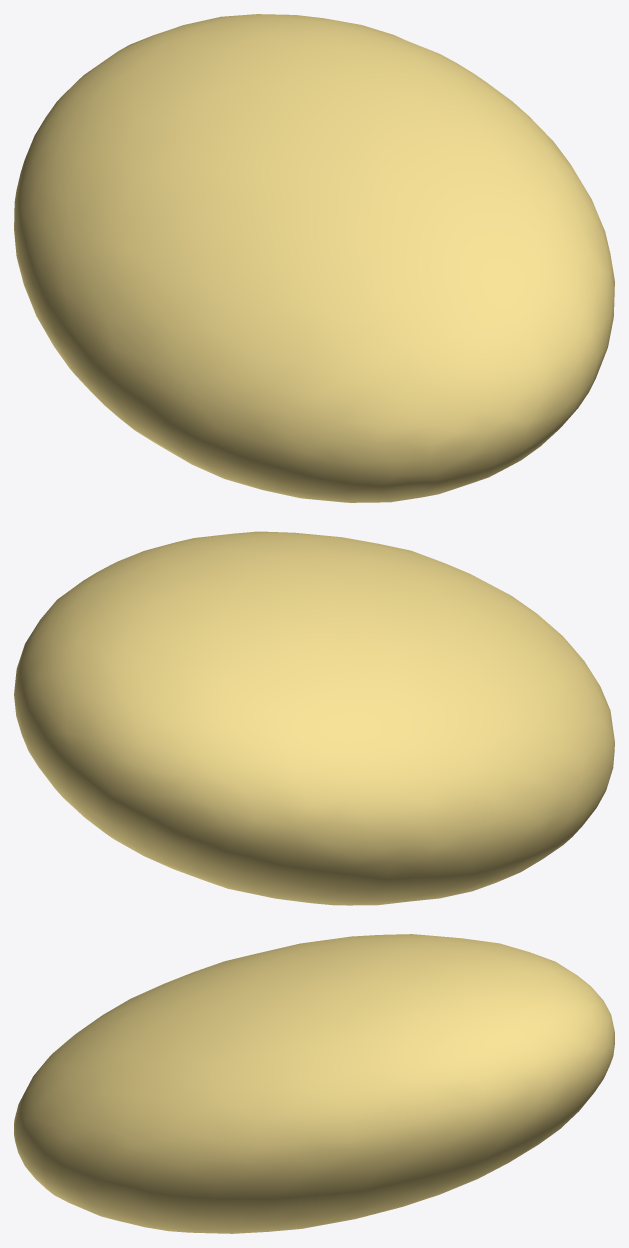
The model's file is fma77628-r_mm3002m.glb.
3 renders of one model, top to bottom at view 1: azimuth 30°, elevation 25°; view 2: azimuth 150°, elevation 25°; view 3: azimuth 270°, elevation 25°, orthographic. The views are drawn at different scales.
Visible parts, largest first — view 1: FMA77628-R_MM3002M; view 2: FMA77628-R_MM3002M; view 3: FMA77628-R_MM3002M.
Boxes of the visible parts, x1,y1,x2,y2 form: FMA77628-R_MM3002M: (14, 14, 614, 502); FMA77628-R_MM3002M: (14, 531, 614, 905); FMA77628-R_MM3002M: (14, 934, 614, 1233).
Size of the model in its own units: 0.00491 by 0.003 by 0.00622.
